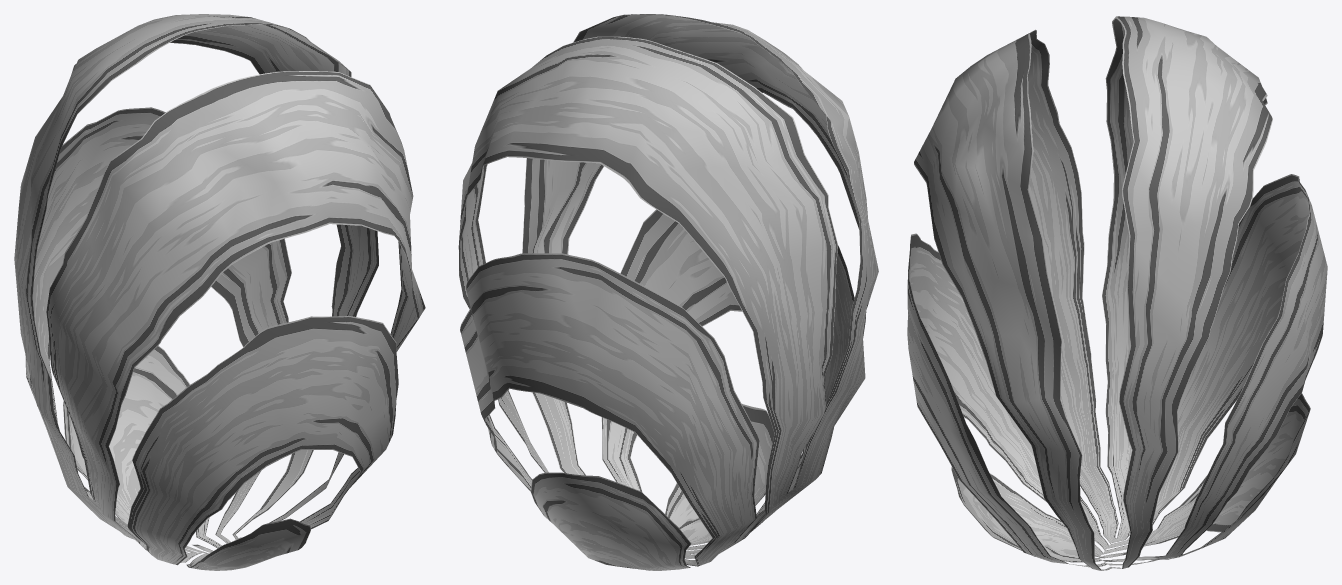
The model's file is Stone.FBX.
3 views of the same model, side by side, from view 1: azimuth 30°, elevation 25°; view 2: azimuth 150°, elevation 25°; view 3: azimuth 270°, elevation 25° (orthographic).
Parts seen in each view (by area): view 1: Sphere001; view 2: Sphere001; view 3: Sphere001.
Boxes of the visible parts, x1=… form: Sphere001: x1=14, y1=14, x2=425, y2=570; Sphere001: x1=458, y1=14, x2=878, y2=570; Sphere001: x1=907, y1=16, x2=1327, y2=570.
Size of the model in its own units: 12.18 by 16.7 by 12.26.
1 material, 1 textured.
